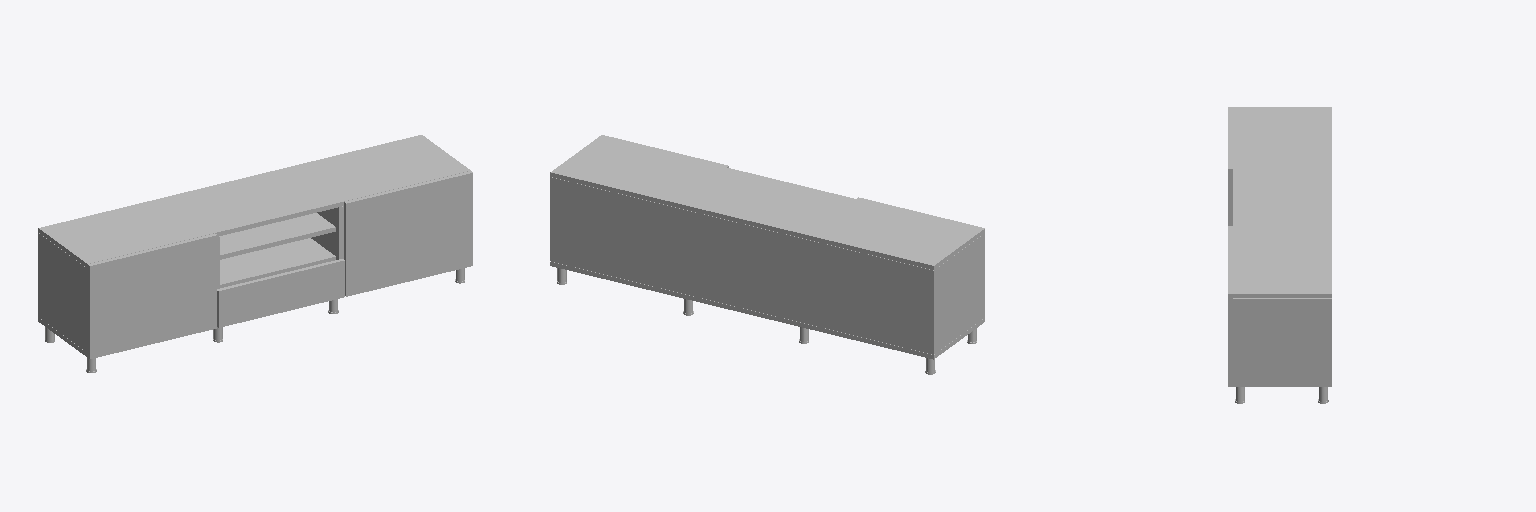
The model's file is tvCabinet.obj.
The picture shows the model from 3 angles: view 1: azimuth 30°, elevation 25°; view 2: azimuth 150°, elevation 25°; view 3: azimuth 270°, elevation 25°; orthographic projection.
Parts seen in each view (by area): view 1: TVcabinet2:Mesh; view 2: TVcabinet2:Mesh; view 3: TVcabinet2:Mesh.
Part boxes in pixels (x1,y1,x2,y2): TVcabinet2:Mesh: (38,135,472,372); TVcabinet2:Mesh: (550,135,984,374); TVcabinet2:Mesh: (1228,107,1331,403).
Size of the model in its own units: 1.8 by 0.5 by 0.4206.